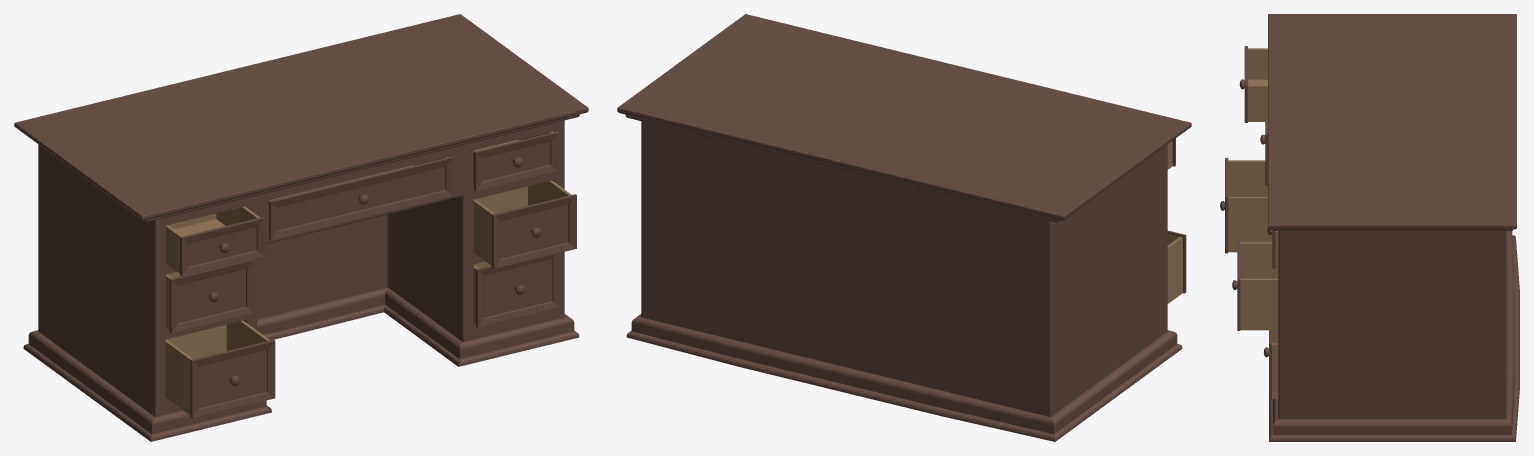
File: desk.glb
3 views of the same model, side by side, from view 1: azimuth 30°, elevation 25°; view 2: azimuth 150°, elevation 25°; view 3: azimuth 270°, elevation 25° (orthographic). The views are drawn at different scales.
Visible parts, largest first — view 1: Cube, Cube.006, Cube.008, Cube.012, Cube.007, Cube.009, Cube.005, Cube.015; view 2: Cube, Cube.006; view 3: Cube, Cube.006, Cube.012, Cube.007, Cube.009.
Part boxes in pixels (x1=…): Cube: x1=14, y1=14, x2=588, y2=441; Cube.006: x1=165, y1=320, x2=275, y2=418; Cube.008: x1=269, y1=156, x2=453, y2=240; Cube.012: x1=473, y1=180, x2=576, y2=268; Cube.007: x1=166, y1=206, x2=265, y2=276; Cube.009: x1=473, y1=253, x2=560, y2=327; Cube.005: x1=166, y1=259, x2=254, y2=333; Cube.015: x1=473, y1=131, x2=558, y2=191; Cube: x1=617, y1=14, x2=1191, y2=441; Cube.006: x1=1167, y1=230, x2=1186, y2=303; Cube: x1=1268, y1=14, x2=1519, y2=441; Cube.006: x1=1220, y1=158, x2=1272, y2=253; Cube.012: x1=1232, y1=239, x2=1278, y2=330; Cube.007: x1=1239, y1=46, x2=1267, y2=122; Cube.009: x1=1263, y1=330, x2=1278, y2=399.
Size of the model in its own units: 1.79 by 0.8748 by 1.07.
